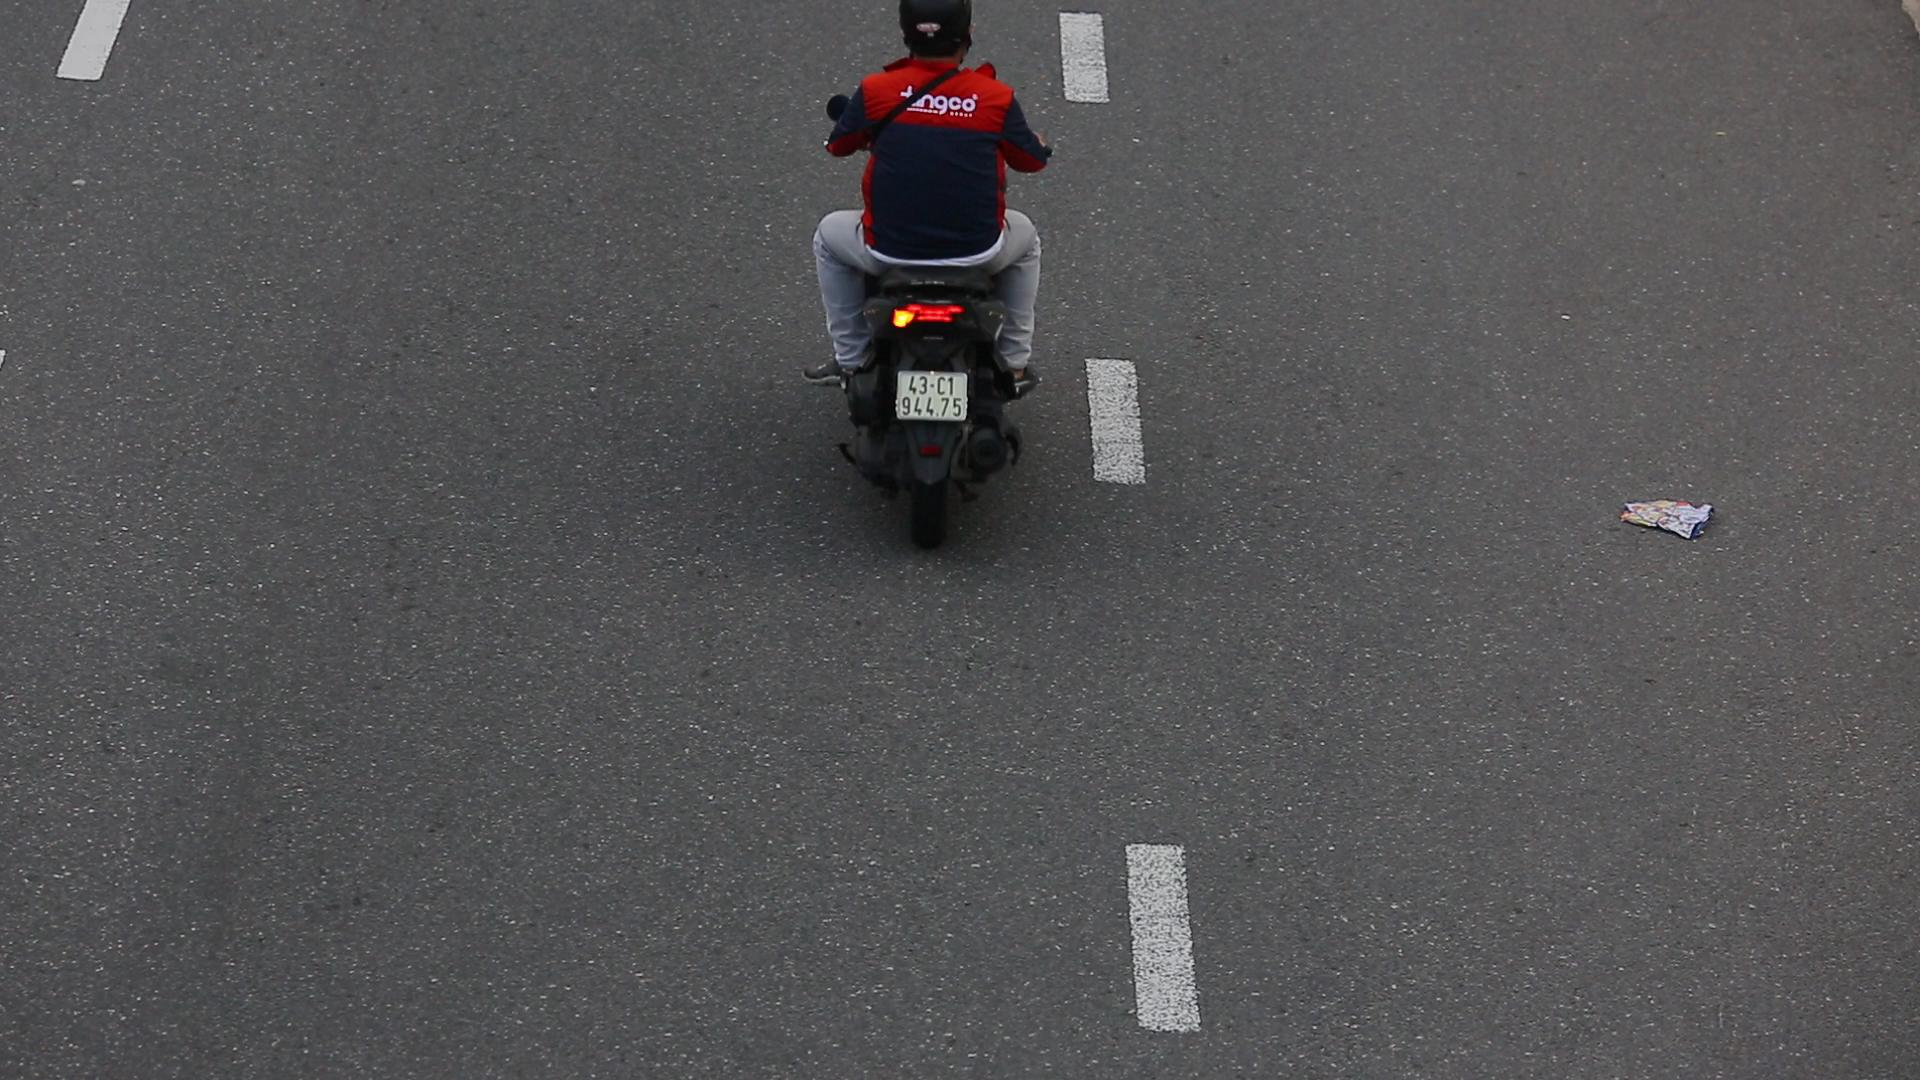motobike: (750, 0, 1076, 589)
